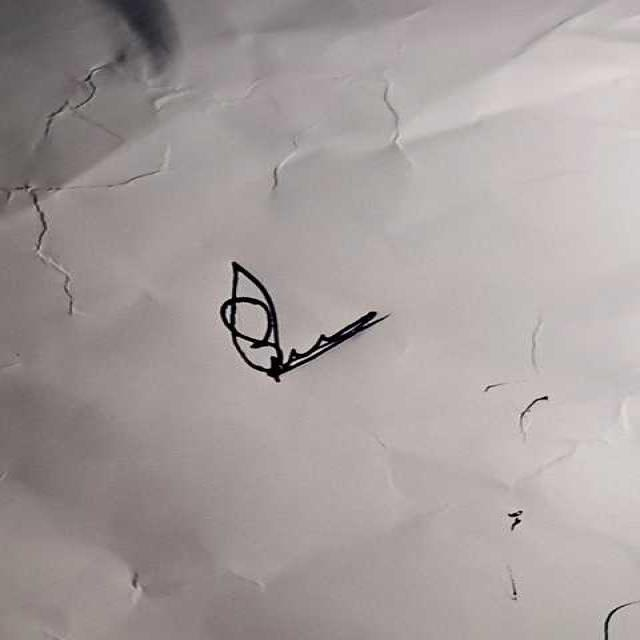signature: (210, 252, 405, 400)
